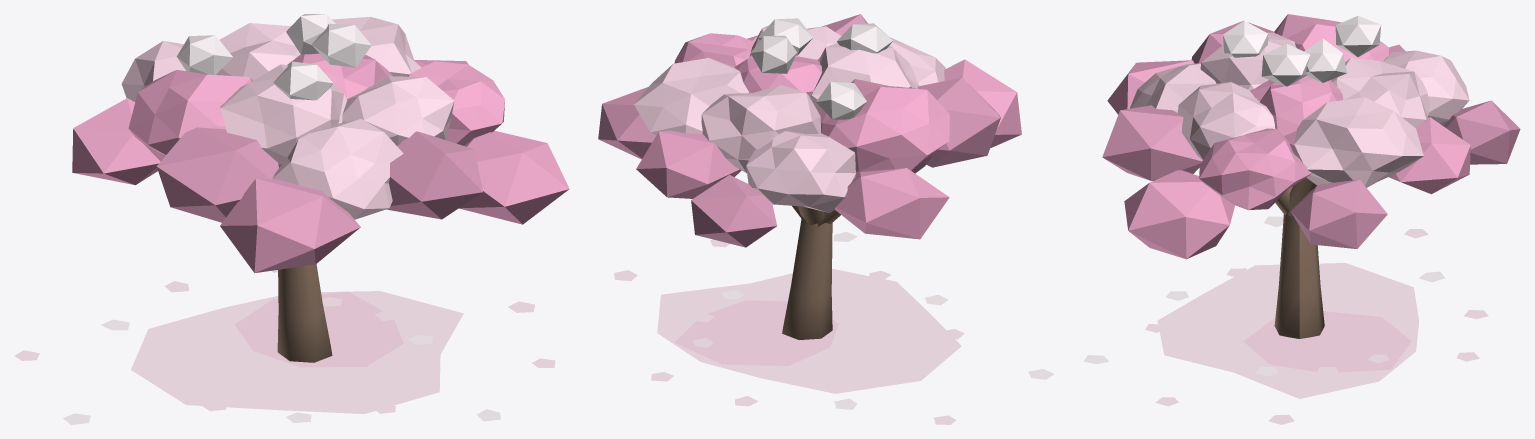
File: blossom.glb
The picture shows the model from 3 angles, left to right: view 1: azimuth 30°, elevation 25°; view 2: azimuth 150°, elevation 25°; view 3: azimuth 270°, elevation 25°; orthographic projection. The views are drawn at different scales.
Size of the model in its own units: 1.62 by 1.07 by 1.43.
